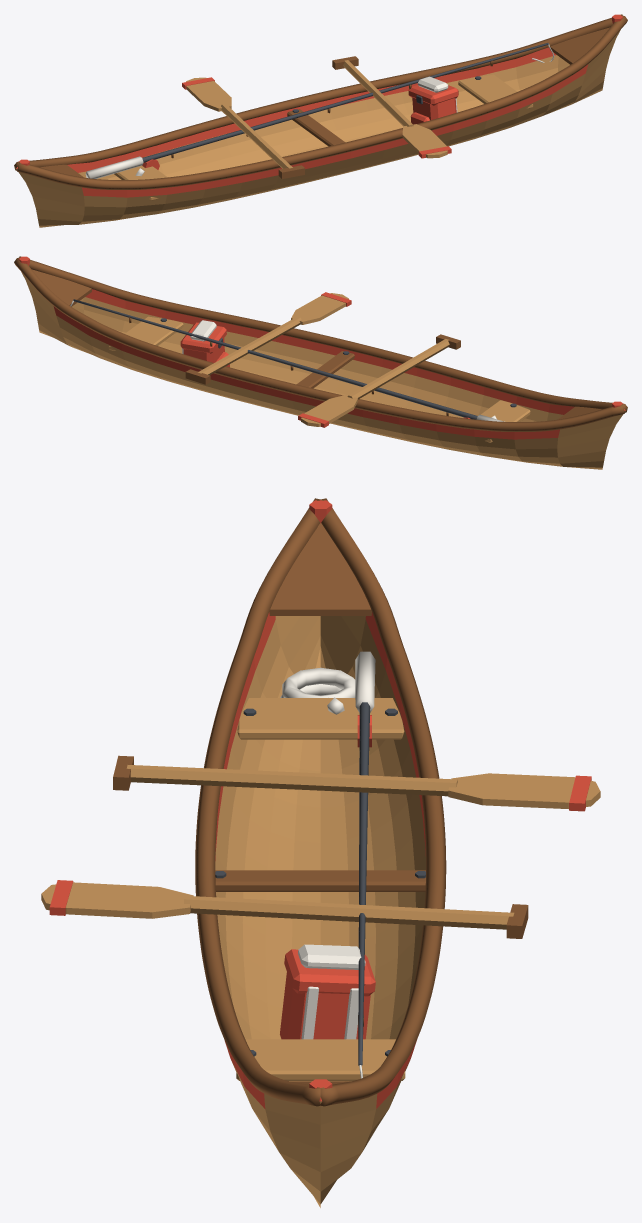
File: fishing-canoe.glb
The picture shows the model from 3 angles, top to bottom: view 1: azimuth 30°, elevation 25°; view 2: azimuth 150°, elevation 25°; view 3: azimuth 270°, elevation 25°; orthographic projection. The views are drawn at different scales.
Visible parts, largest first — view 1: Hull, Gunwale_R, Gunwale_L, FishingRod, Paddle_1, Paddle_2, Backpack, Seat_Bow, Deck_Bow, Thwart, Seat_Stern; view 2: Hull, Gunwale_L, Gunwale_R, Paddle_2, Paddle_1, FishingRod, Backpack, Seat_Bow, Deck_Bow, Thwart, Seat_Stern; view 3: Hull, Gunwale_R, Gunwale_L, Paddle_1, Paddle_2, Backpack, Seat_Stern, Deck_Stern, Seat_Bow, Thwart, FishingRod, RopeCoil.
Boxes of the visible parts, x1,y1,x2,y2 form: Hull: (16,30,620,227); Gunwale_R: (17,15,627,189); Gunwale_L: (14,14,622,170); FishingRod: (85,43,554,178); Paddle_1: (182,77,304,178); Paddle_2: (332,56,451,158); Backpack: (408,76,458,124); Seat_Bow: (458,74,533,108); Deck_Bow: (550,27,609,64); Thwart: (287,109,345,146); Seat_Stern: (114,165,167,200); Hull: (21,272,625,469); Gunwale_L: (14,257,624,431); Gunwale_R: (19,256,627,412); Paddle_2: (185,292,351,384); Paddle_1: (298,334,460,427); FishingRod: (70,299,504,421); Backpack: (180,320,229,367); Seat_Bow: (108,316,183,350); Deck_Bow: (32,269,92,306); Thwart: (296,351,354,388); Seat_Stern: (481,400,530,442); Hull: (215,612,425,1207); Gunwale_R: (195,498,324,1106); Gunwale_L: (317,498,446,1106); Paddle_1: (113,755,600,811); Paddle_2: (41,880,528,938); Backpack: (280,944,375,1039); Seat_Stern: (237,698,404,739); Deck_Stern: (269,523,371,615); Seat_Bow: (236,1039,405,1080); Thwart: (215,870,425,891); FishingRod: (355,651,375,1078); RopeCoil: (280,667,355,714).
Size of the model in its own units: 19.54 by 2.5 by 7.75.
